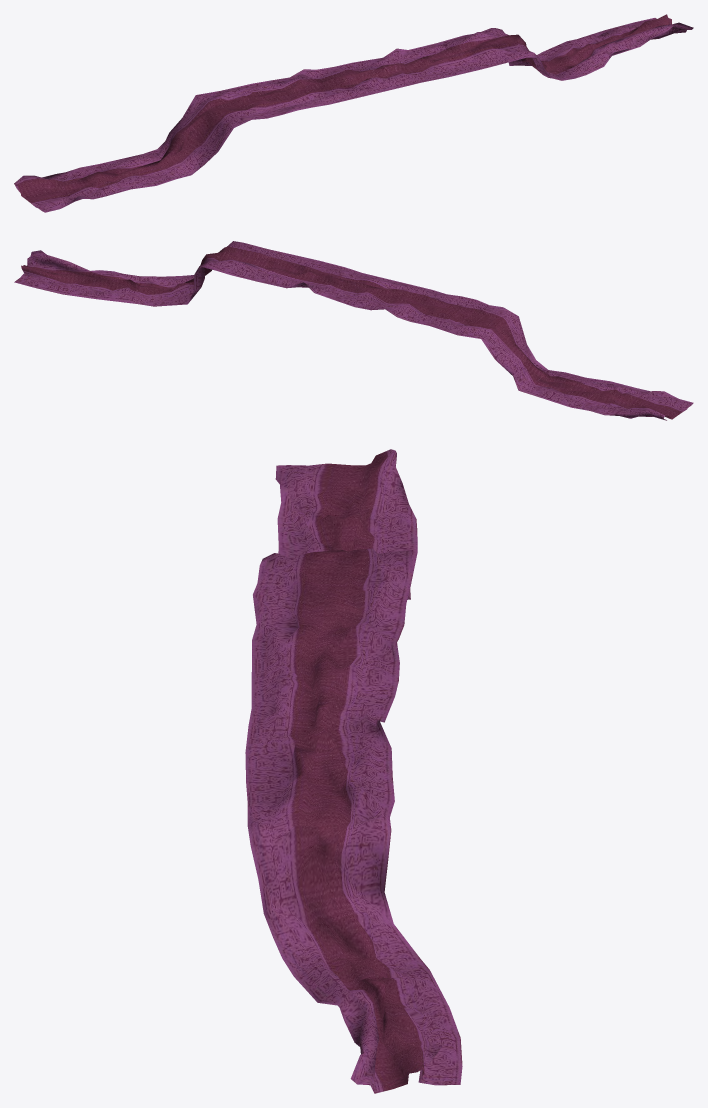
3 views of the same model, one above another, from view 1: azimuth 30°, elevation 25°; view 2: azimuth 150°, elevation 25°; view 3: azimuth 270°, elevation 25° (orthographic). The views are drawn at different scales.
Visible parts, largest first — view 1: 平面.005_Baked; view 2: 平面.005_Baked; view 3: 平面.005_Baked.
Boxes of the visible parts, x1=… form: 平面.005_Baked: x1=14, y1=14, x2=693, y2=212; 平面.005_Baked: x1=14, y1=241, x2=693, y2=420; 平面.005_Baked: x1=245, y1=449, x2=462, y2=1093.
Bounding box in the file's own units: 498 × 38.47 × 72.54.
1 material, 1 textured.
